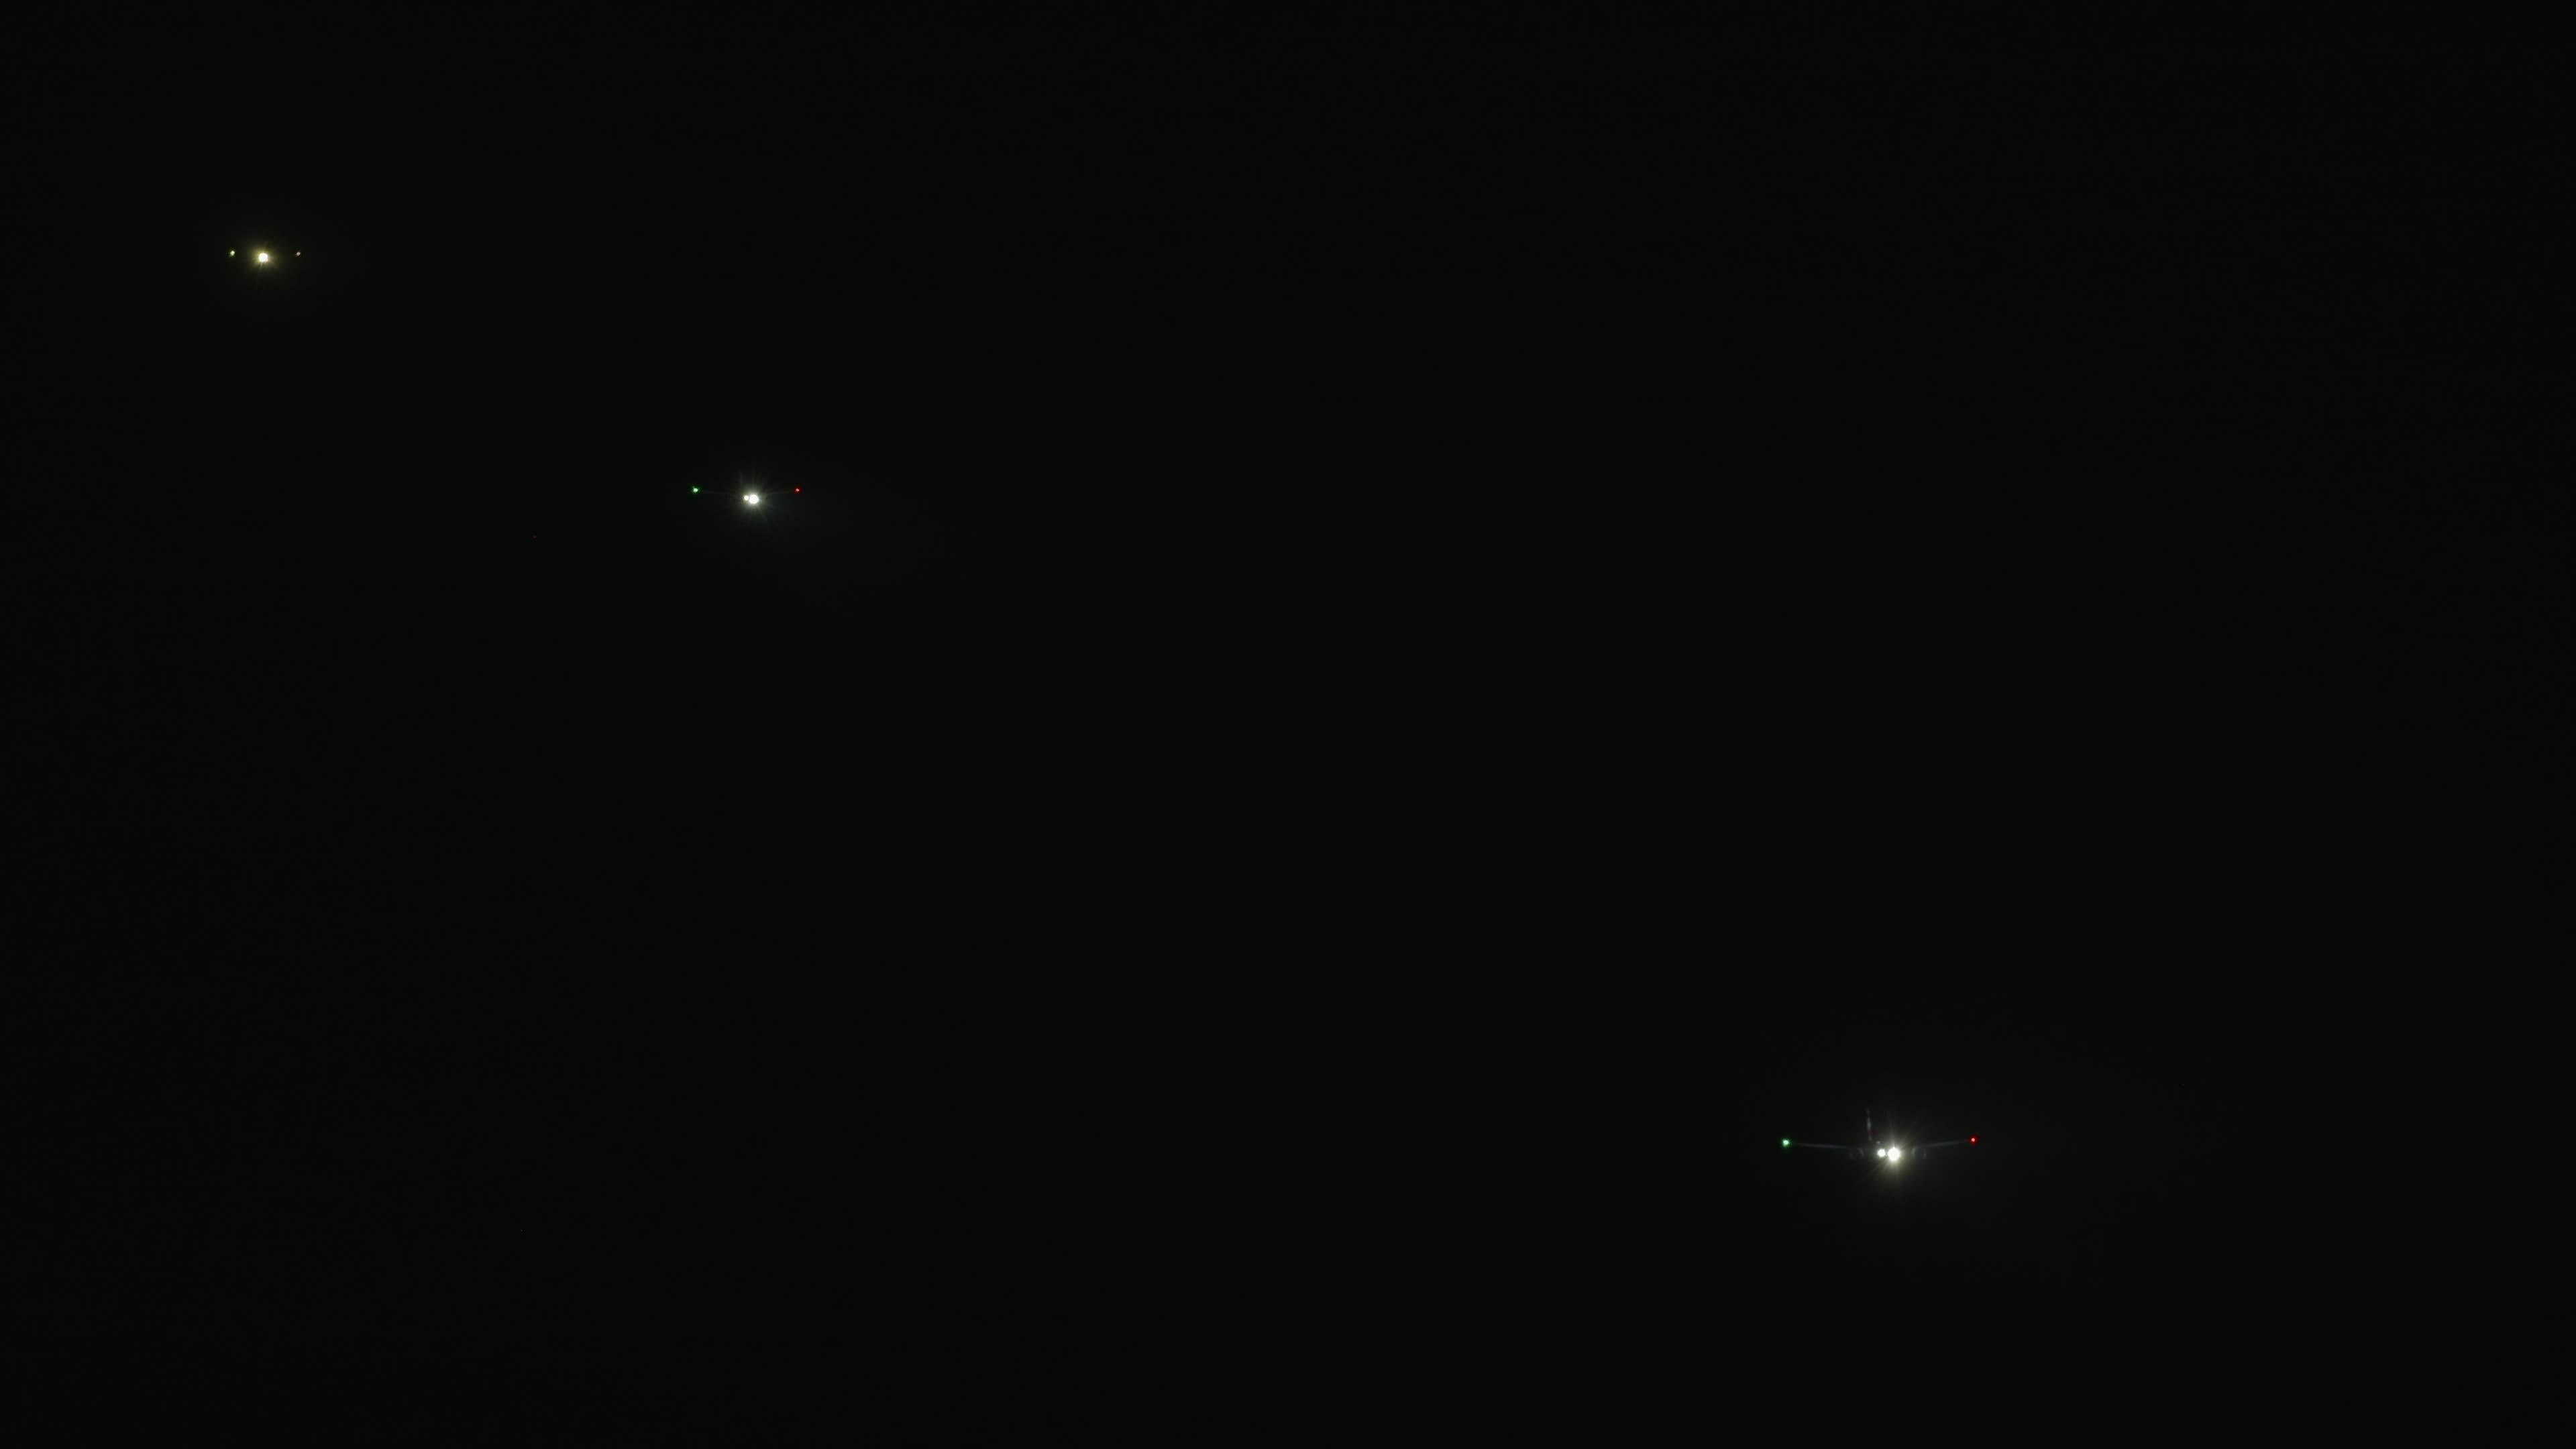Plane: (1695, 1090, 2052, 1196), (644, 453, 858, 522), (180, 221, 343, 285)
